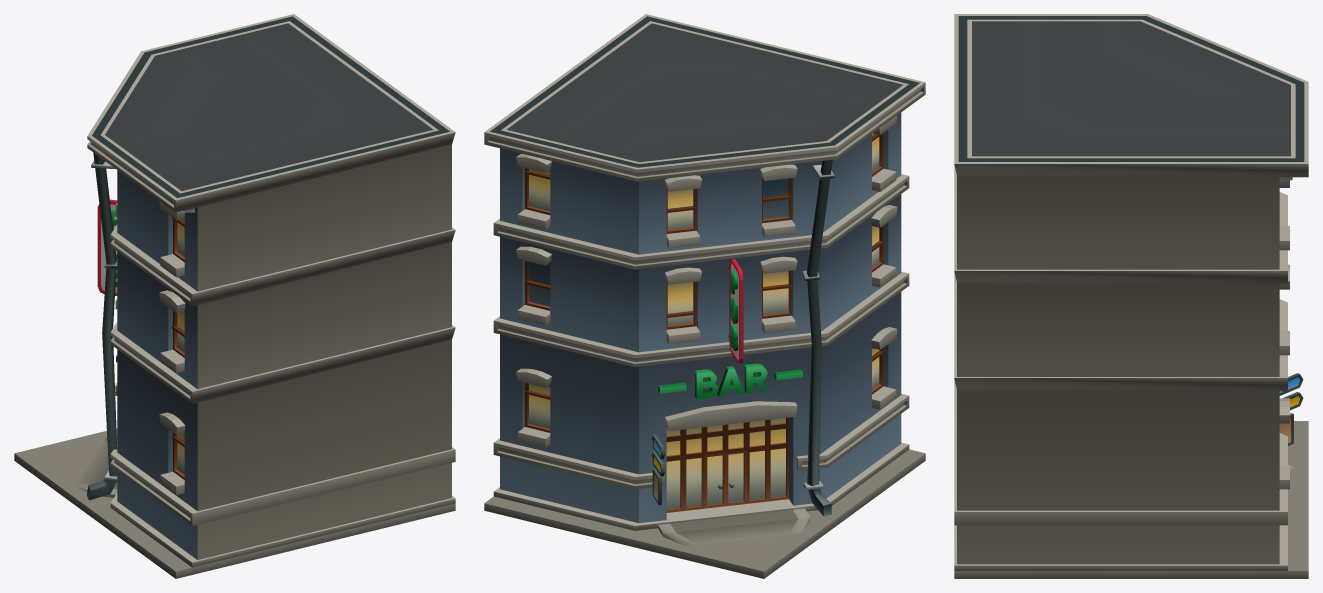
The model's file is Building_18B.fbx.
3 views of the same model, side by side, from view 1: azimuth 30°, elevation 25°; view 2: azimuth 150°, elevation 25°; view 3: azimuth 270°, elevation 25° (orthographic). The views are drawn at different scales.
Parts seen in each view (by area): view 1: Building_18B, Building_18B_Window_Lights; view 2: Building_18B, Building_18B_Window_Lights; view 3: Building_18B.
Part boxes in pixels (bbox=[...]): Building_18B: bbox=[14, 14, 455, 578]; Building_18B_Window_Lights: bbox=[177, 218, 184, 474]; Building_18B: bbox=[484, 14, 925, 578]; Building_18B_Window_Lights: bbox=[529, 133, 879, 509]; Building_18B: bbox=[954, 14, 1308, 578].
Size of the model in its own units: 12 by 15.5 by 12.
1 material, 1 textured.
